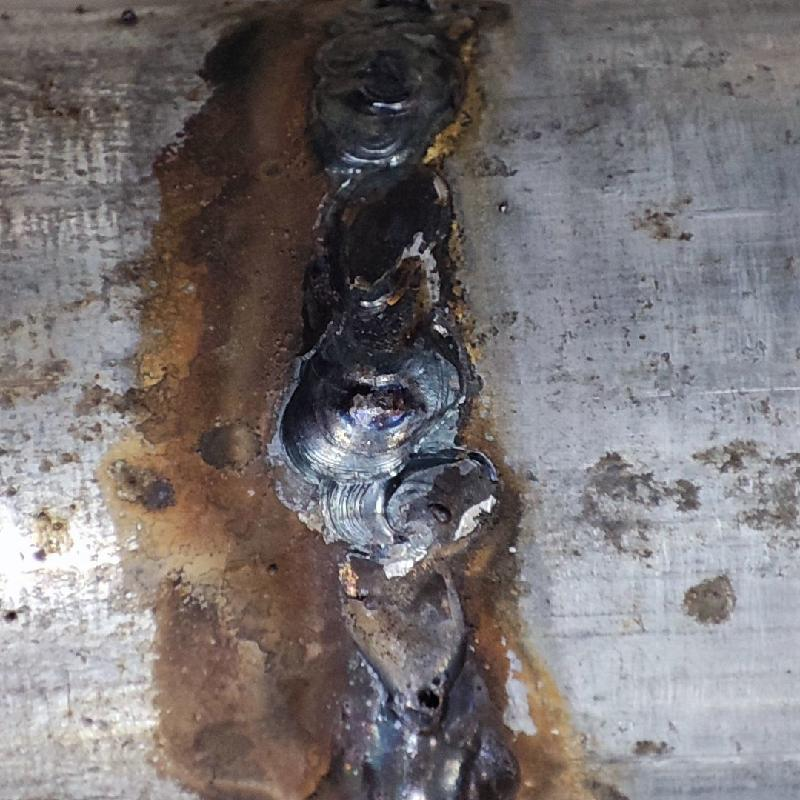Not_fully_soldered: (318, 478, 475, 721)
Surface_pores: (383, 665, 463, 717)
Weld: (328, 725, 523, 795)
